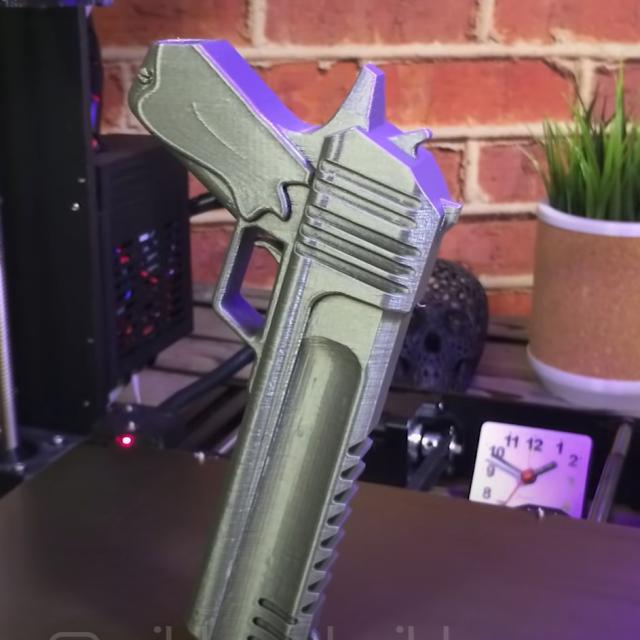Without deffect: (86, 0, 472, 640)
